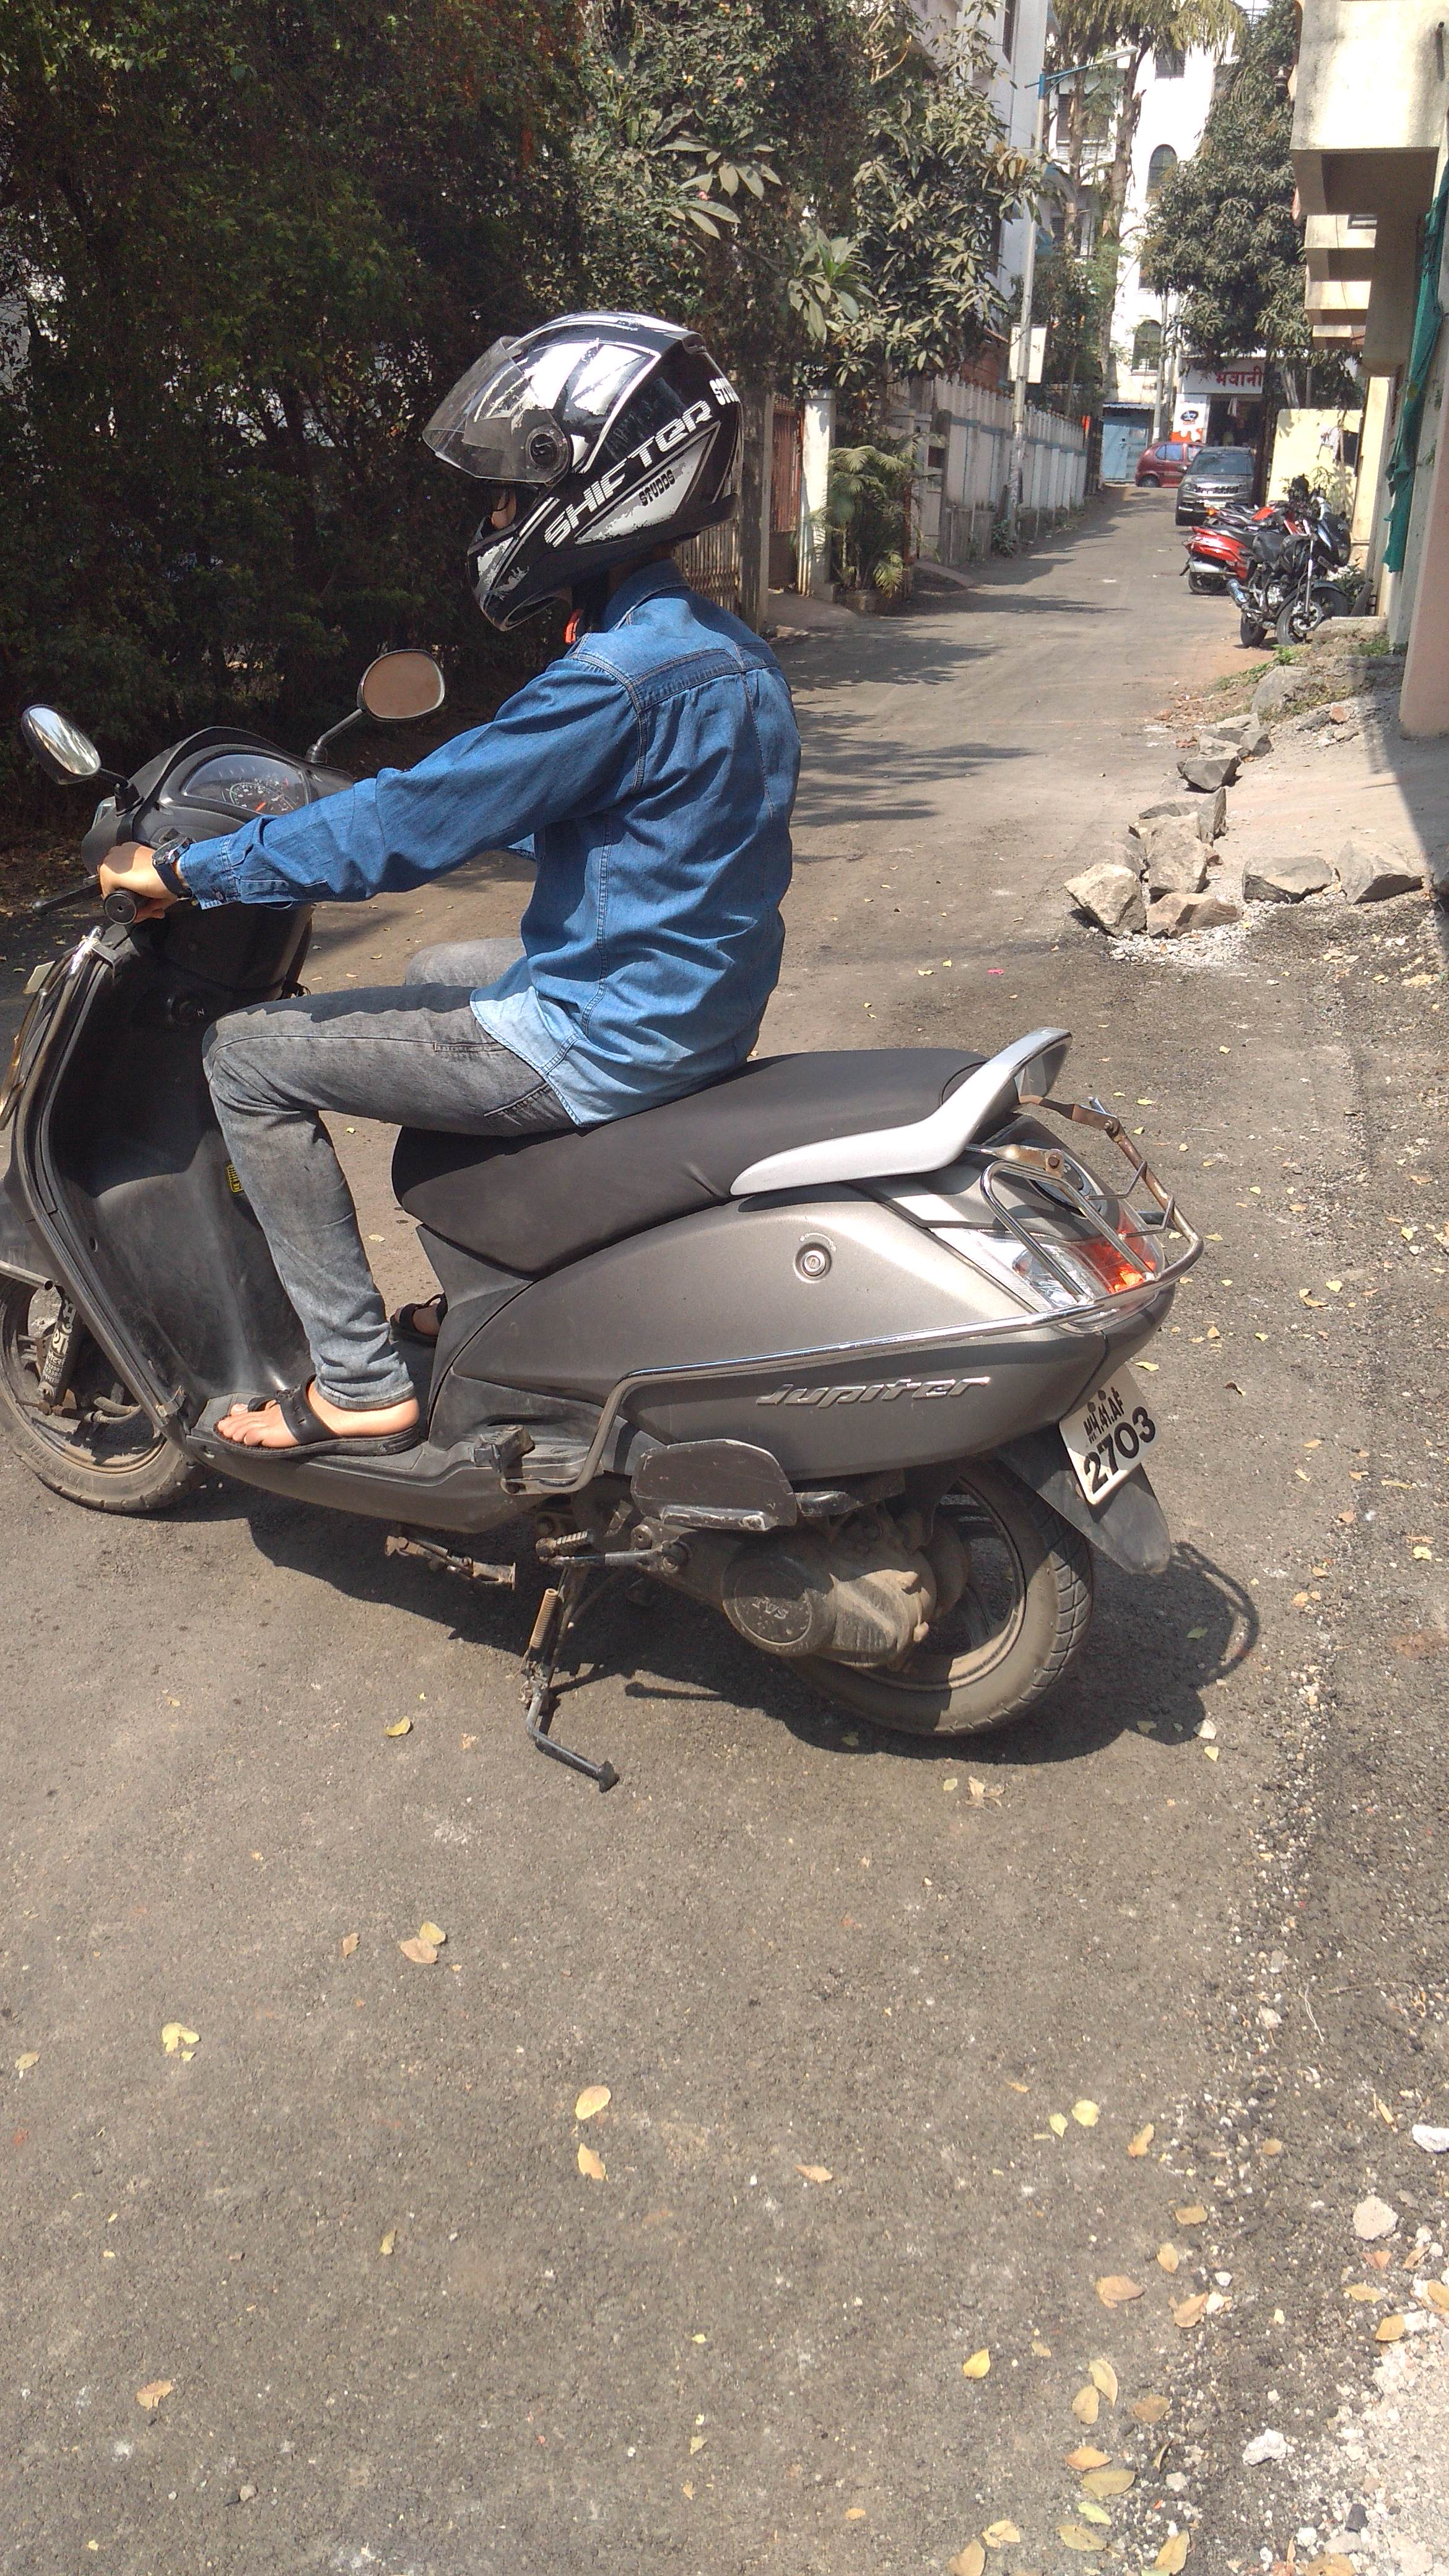helmet: (184, 285, 816, 1569)
